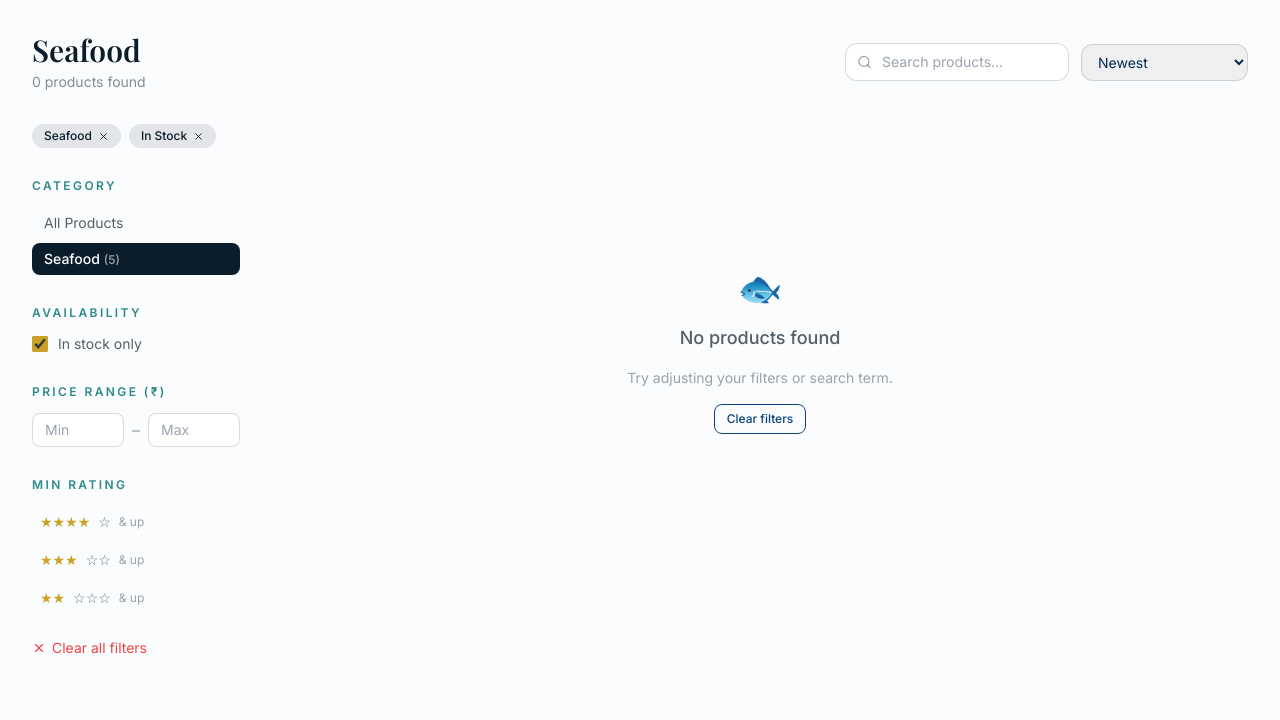
Test case: ProductsPage › clears all active filters
The width and height of the screenshot is (1280, 720).
Click the button "Clear all filters": (136,648) x1=32 y1=638 x2=240 y2=658
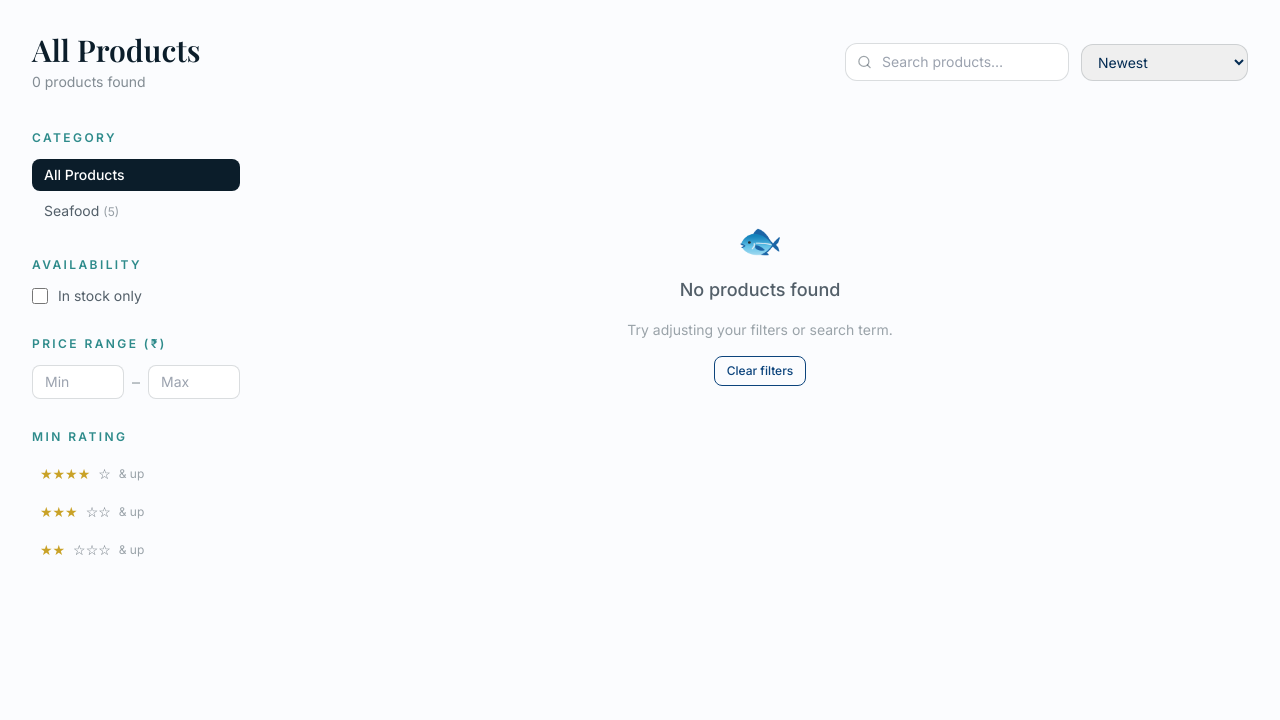
Check: the button "Clear all filters" is gone
